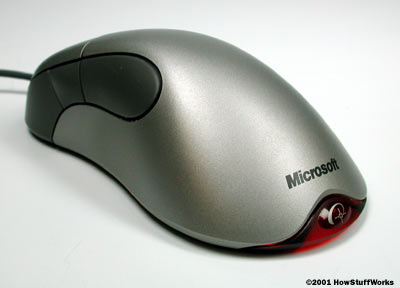mouse: (22, 26, 381, 264)
